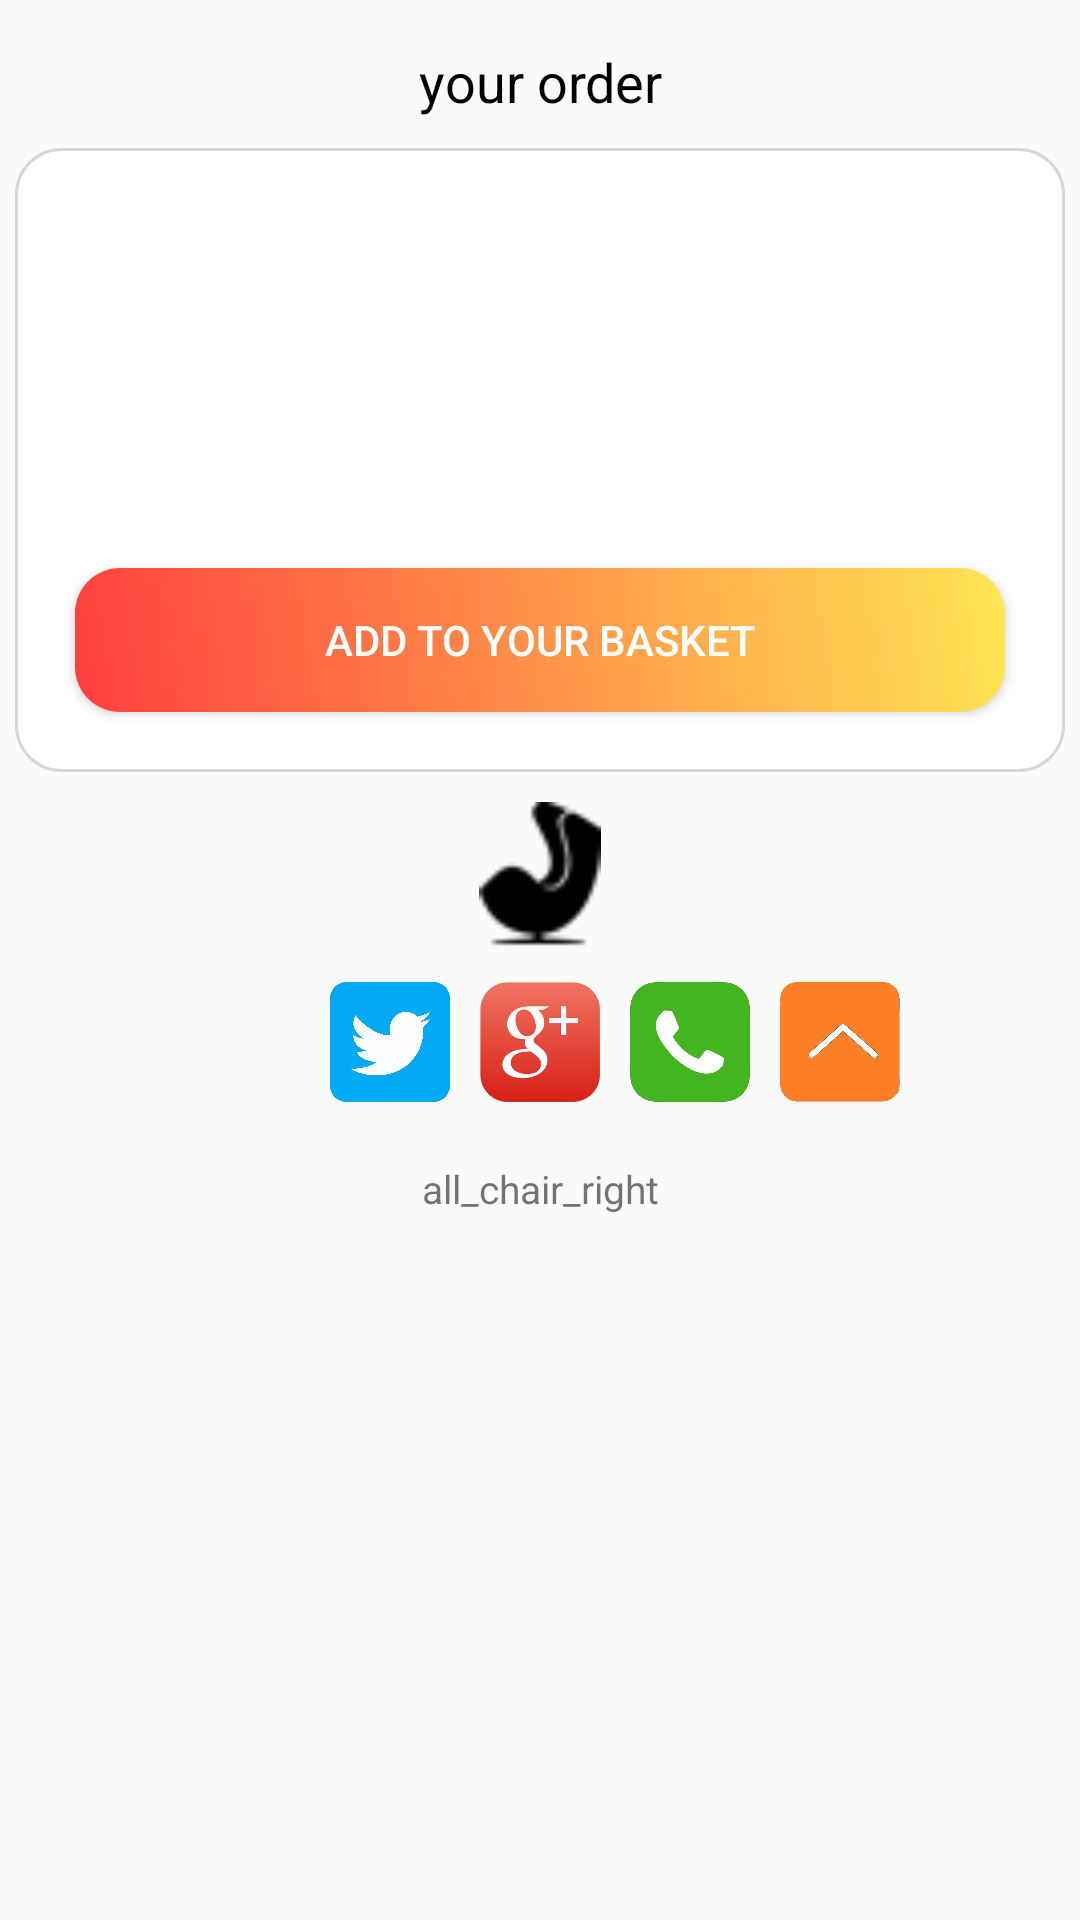

Locate icon controls on the screen. Image size 1080w x 1920h, boxes as (x1, y1, x2, y2).
call: (630, 982, 750, 1102)
